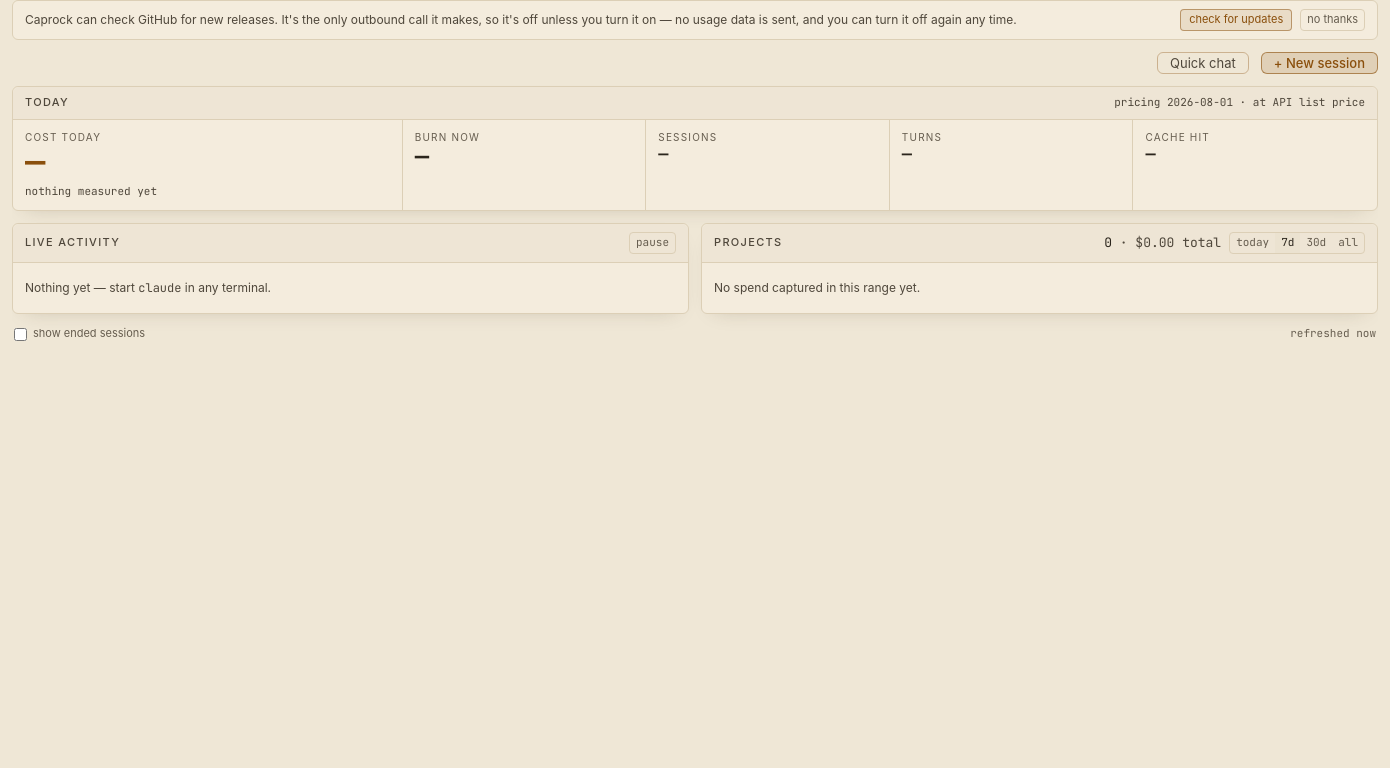
states a plain count when the server sent everything it had
Click the checkbox labelled "show ended sessions" at (20, 334), box [14, 328, 27, 341]
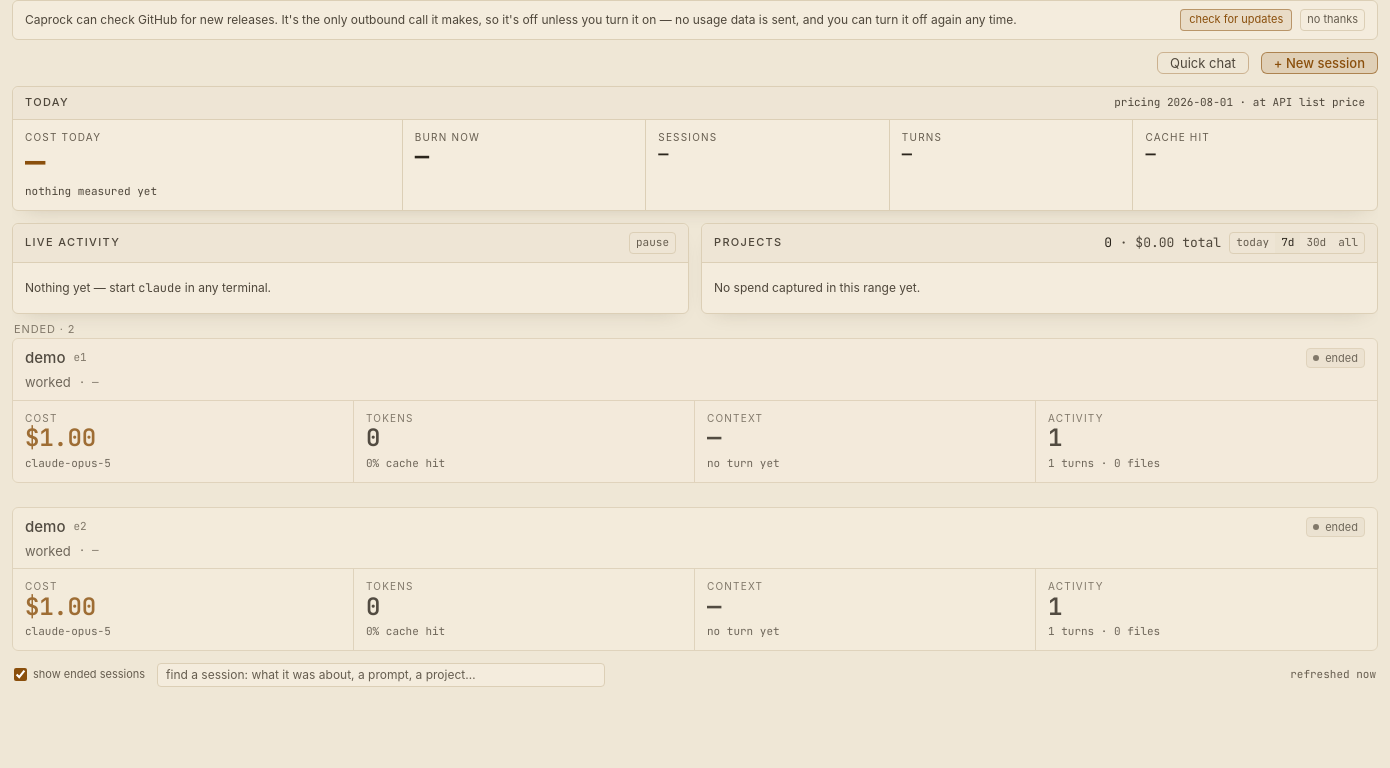
Now the text "Ended · 2" is shown, box [14, 322, 75, 338]
